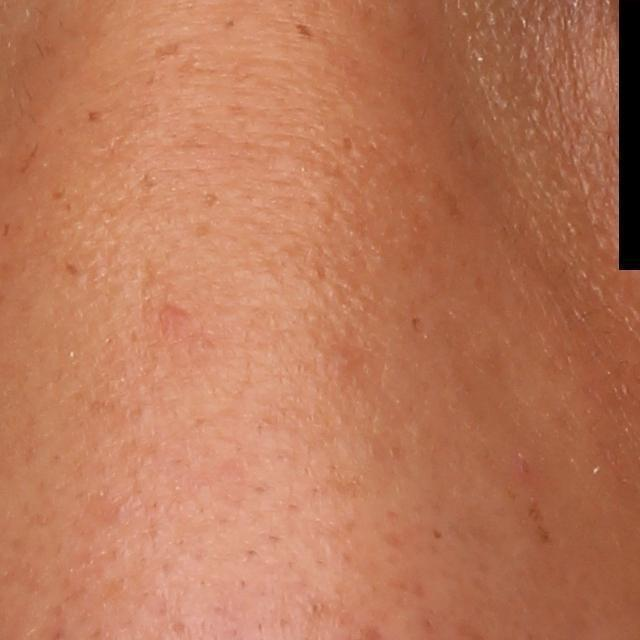melasma: (154, 39, 185, 64), (85, 105, 108, 125), (294, 21, 316, 38)
